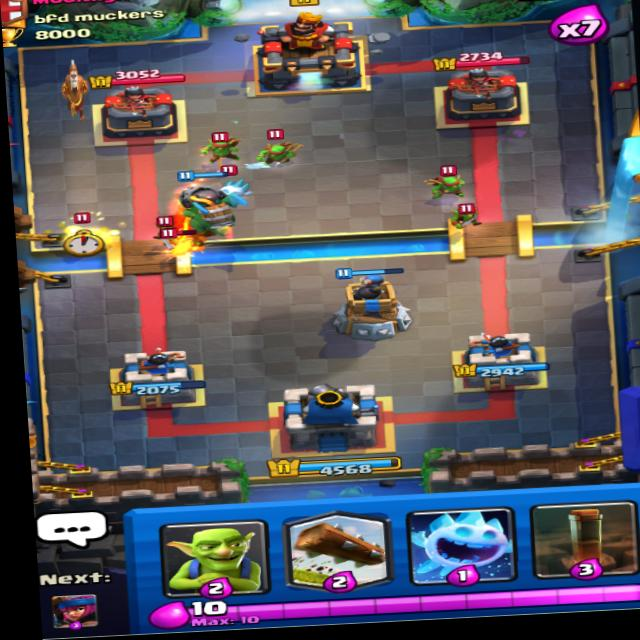goblin: (157, 226, 203, 257), (449, 200, 492, 227)
ice-spirit: (217, 174, 261, 209)
spear-goblin: (195, 132, 241, 171), (422, 166, 465, 200), (254, 130, 299, 161)
